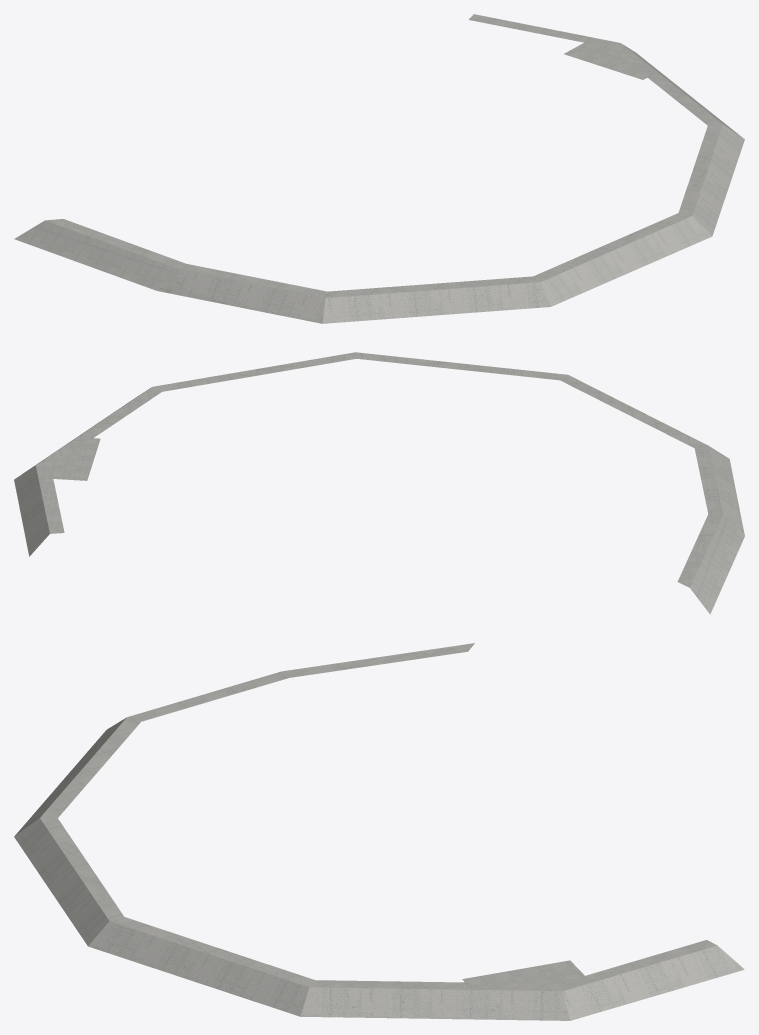
File: kd_stage_136599_16_17.glb
The picture shows the model from 3 angles, top to bottom: view 1: azimuth 30°, elevation 25°; view 2: azimuth 150°, elevation 25°; view 3: azimuth 270°, elevation 25°; orthographic projection. The views are drawn at different scales.
Visible parts, largest first — view 1: kd_stage_136599_16_17; view 2: kd_stage_136599_16_17; view 3: kd_stage_136599_16_17.
Boxes of the visible parts, box(x1,y1,x2,y2) form: kd_stage_136599_16_17: box(14, 14, 744, 323); kd_stage_136599_16_17: box(14, 352, 744, 614); kd_stage_136599_16_17: box(14, 643, 744, 1020).
Bounding box in the file's own units: 61.94 × 1.49 × 51.26.
1 material, 1 textured.
